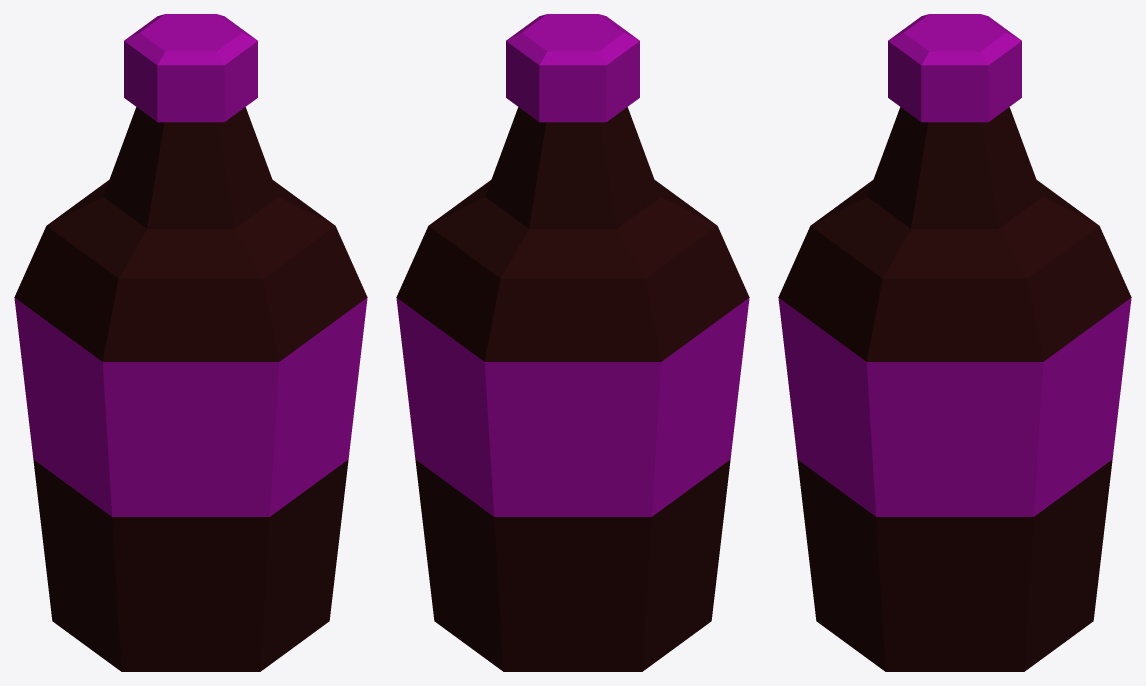
The model's file is Bottle2Purple.fbx.
The picture shows the model from 3 angles, left to right: view 1: azimuth 30°, elevation 25°; view 2: azimuth 150°, elevation 25°; view 3: azimuth 270°, elevation 25°; orthographic projection.
Parts seen in each view (by area): view 1: Bottle2Purple; view 2: Bottle2Purple; view 3: Bottle2Purple.
Part boxes in pixels (x1,y1,x2,y2): Bottle2Purple: (14,14,367,671); Bottle2Purple: (396,14,749,671); Bottle2Purple: (778,14,1131,671).
Size of the model in its own units: 0.1836 by 0.3899 by 0.2121.
